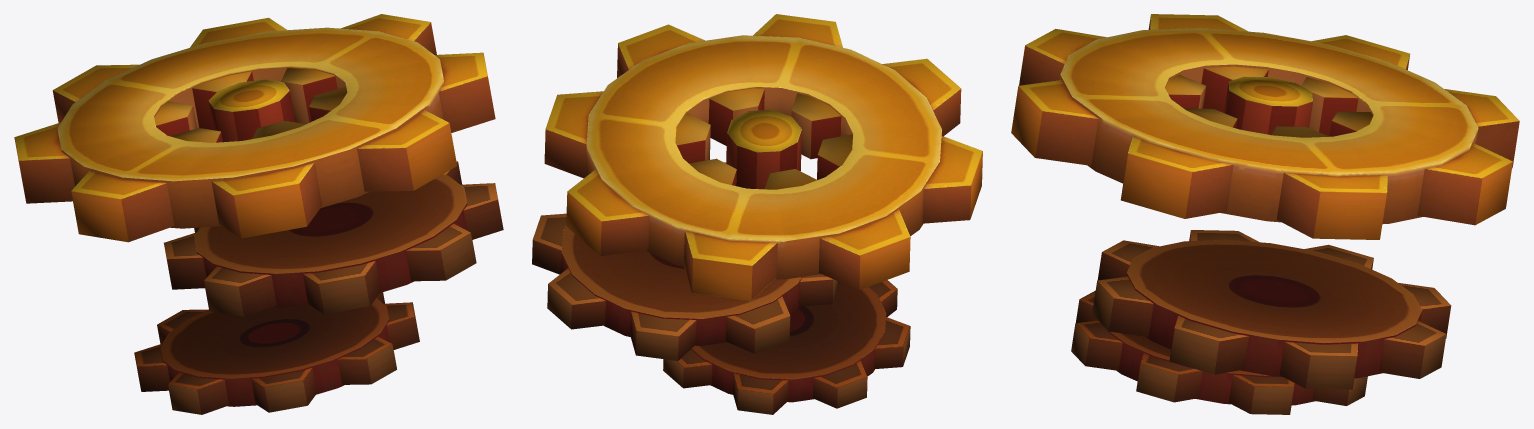
The model's file is GearedOdysseyStatue.fbx.
The picture shows the model from 3 angles, left to right: view 1: azimuth 30°, elevation 25°; view 2: azimuth 150°, elevation 25°; view 3: azimuth 270°, elevation 25°; orthographic projection. The views are drawn at different scales.
Parts seen in each view (by area): view 1: Geared01, GearedDark01, GearedDark02; view 2: Geared01, GearedDark01, GearedDark02; view 3: Geared01, GearedDark01, GearedDark02.
Boxes of the visible parts, <box> form: Geared01: <box>14,14,495,242</box>; GearedDark01: <box>164,161,503,316</box>; GearedDark02: <box>134,292,419,414</box>; Geared01: <box>544,14,982,300</box>; GearedDark01: <box>532,162,839,360</box>; GearedDark02: <box>663,280,910,414</box>; Geared01: <box>1011,14,1519,239</box>; GearedDark01: <box>1092,230,1451,389</box>; GearedDark02: <box>1071,290,1367,414</box>.
Bounding box in the file's own units: 20.5 × 13.54 × 19.42.
1 material, 1 textured.
